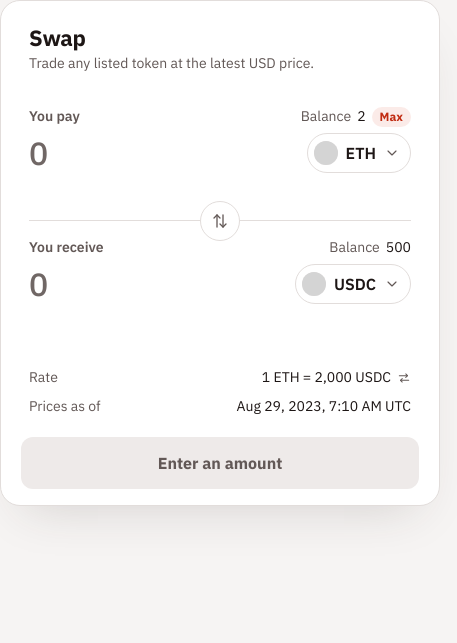
Test: SwapForm › keeps the amounts and reports a failed swap
Step 1. Type "1" into the field labelled "You pay" → (162, 153), box [29,133,295,173]
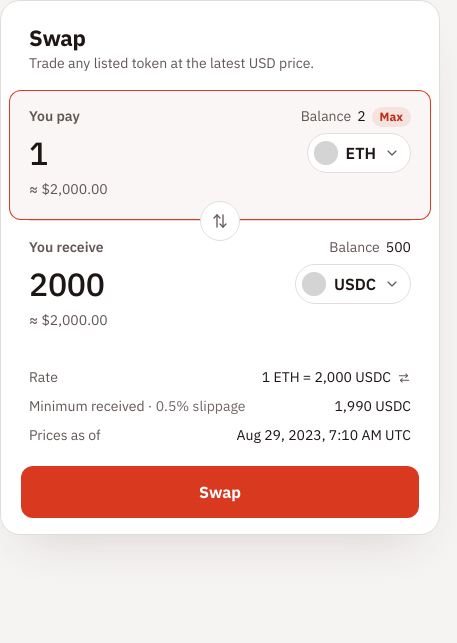
Step 2. Click the button "Swap" → (220, 492), box [21,466,419,518]
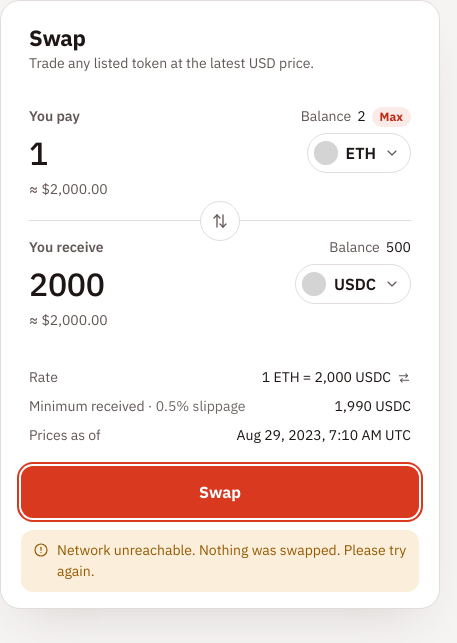
Now the message reads "Network unreachable. Nothing was swapped. Please try again.", box [21,518,419,592]
